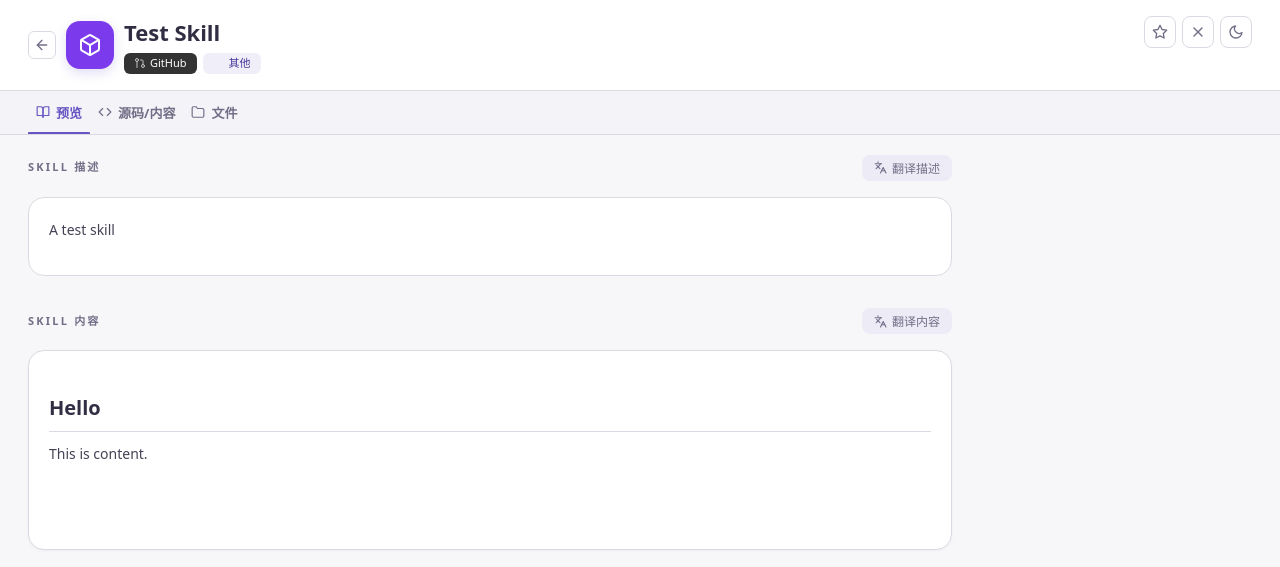
it: SkillDetailBase › switching to files tab shows file editor
This screenshot has width=1280, height=567.
Step 1. Click the button "文件" → (214, 112), box [183,90,245,134]
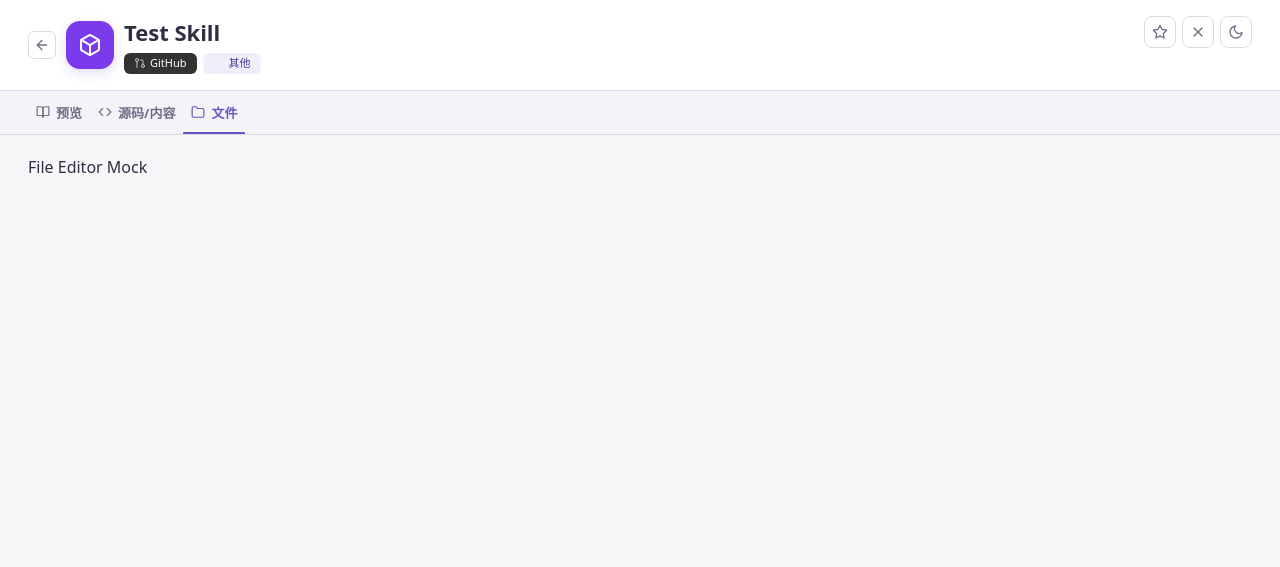
Check: the text "File Editor Mock" is shown, box [28,156,147,178]
